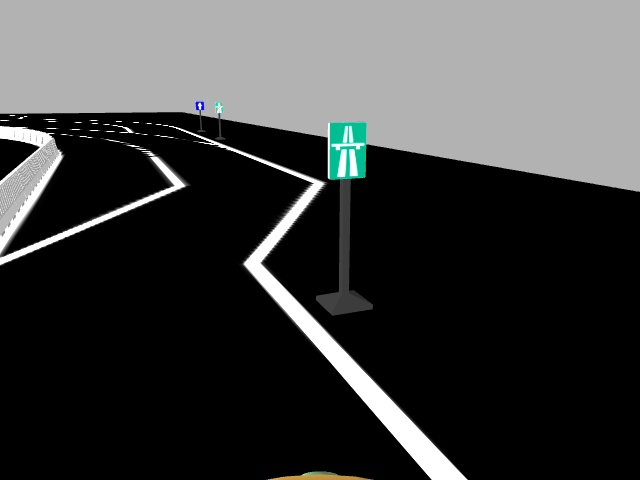HighwayEntrance: (325, 121, 366, 178)
